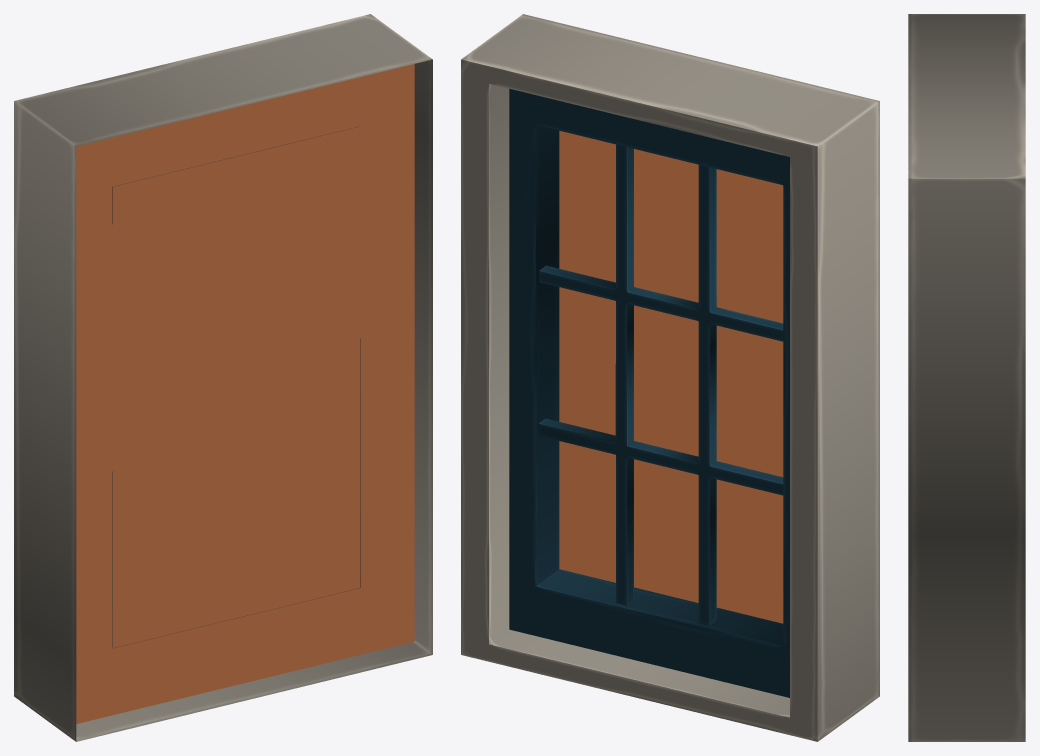
The model's file is Window_Blue.fbx.
The picture shows the model from 3 angles, left to right: view 1: azimuth 30°, elevation 25°; view 2: azimuth 150°, elevation 25°; view 3: azimuth 270°, elevation 25°; orthographic projection. The views are drawn at different scales.
Parts seen in each view (by area): view 1: Window_Blue; view 2: Window_Blue; view 3: Window_Blue.
Part boxes in pixels (bbox=[...]): Window_Blue: bbox=[14, 14, 432, 741]; Window_Blue: bbox=[461, 14, 879, 741]; Window_Blue: bbox=[908, 14, 1025, 741].
Bounding box in the file's own units: 73.9 × 118 × 22.29.
2 materials, 1 textured.
